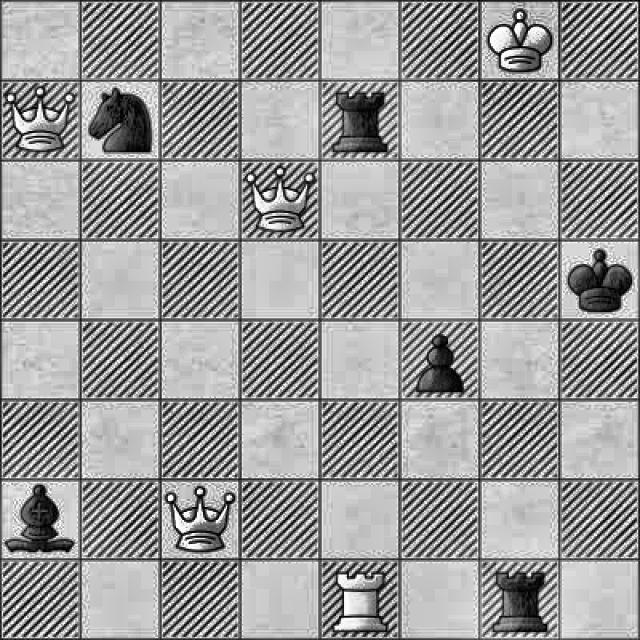Black Knight: (84, 83, 158, 159)
black bishop: (3, 481, 78, 557)
black king: (563, 239, 635, 317)
black pawn: (402, 329, 475, 398)
black rook: (326, 84, 395, 158), (487, 568, 551, 638)
white king: (486, 4, 557, 80)
white queen: (241, 161, 319, 239), (162, 482, 238, 559), (7, 83, 78, 153)
white rook: (331, 569, 396, 640)
